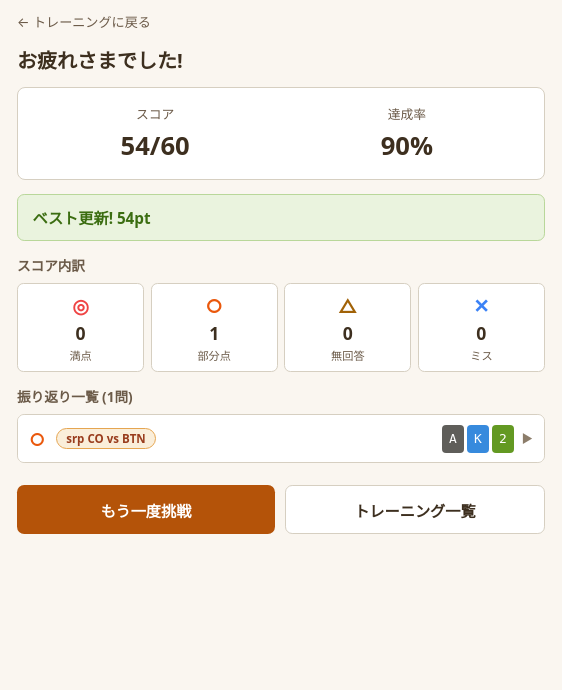
it: TrainingResultFlopIntermediate › CB問題タップで頻度詳細 + 似た頻度のボードが展開される
Expected: the text "あなた" is not shown
Click the button "○ srp CO vs BTN A K 2 ▶" at x=106, y=439, box [18,415,544,462]
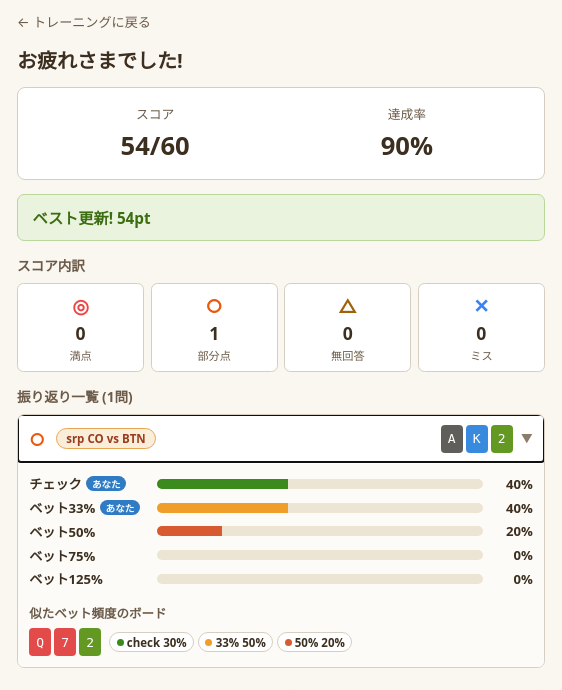
Expected: the text "チェック" is shown, [29,475,82,493]
Expected: the text "ベット33%" is shown, [29,499,95,517]
Expected: the text "似たベット頻度のボード" is shown, [29,606,166,622]
